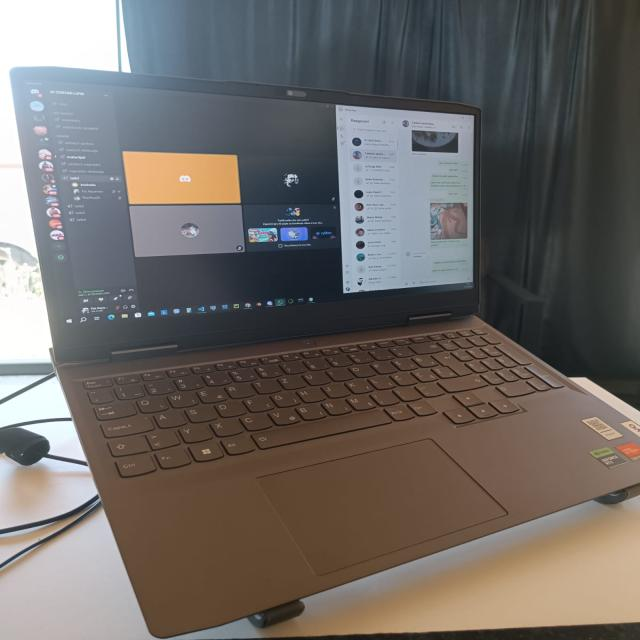Laptops_bbox: (0, 48, 640, 640)
